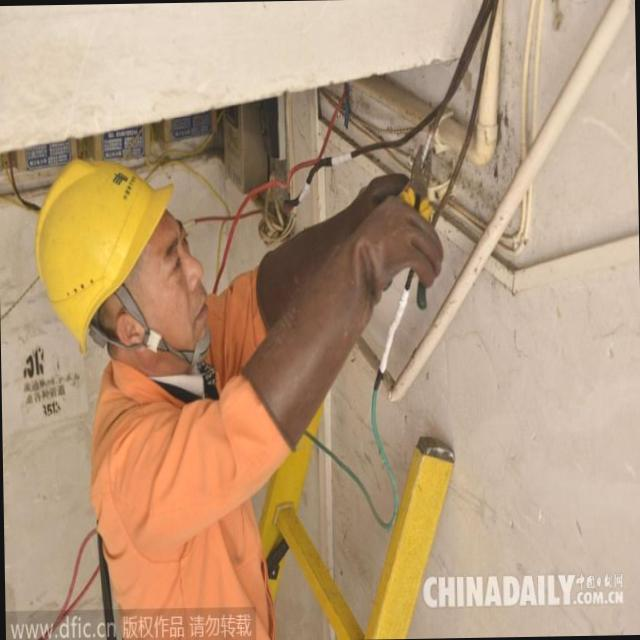helmet: (32, 151, 186, 344)
